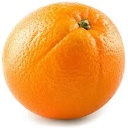orange: (1, 1, 128, 122)
